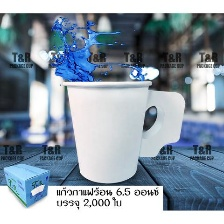paper_cup: (57, 74, 189, 185)
